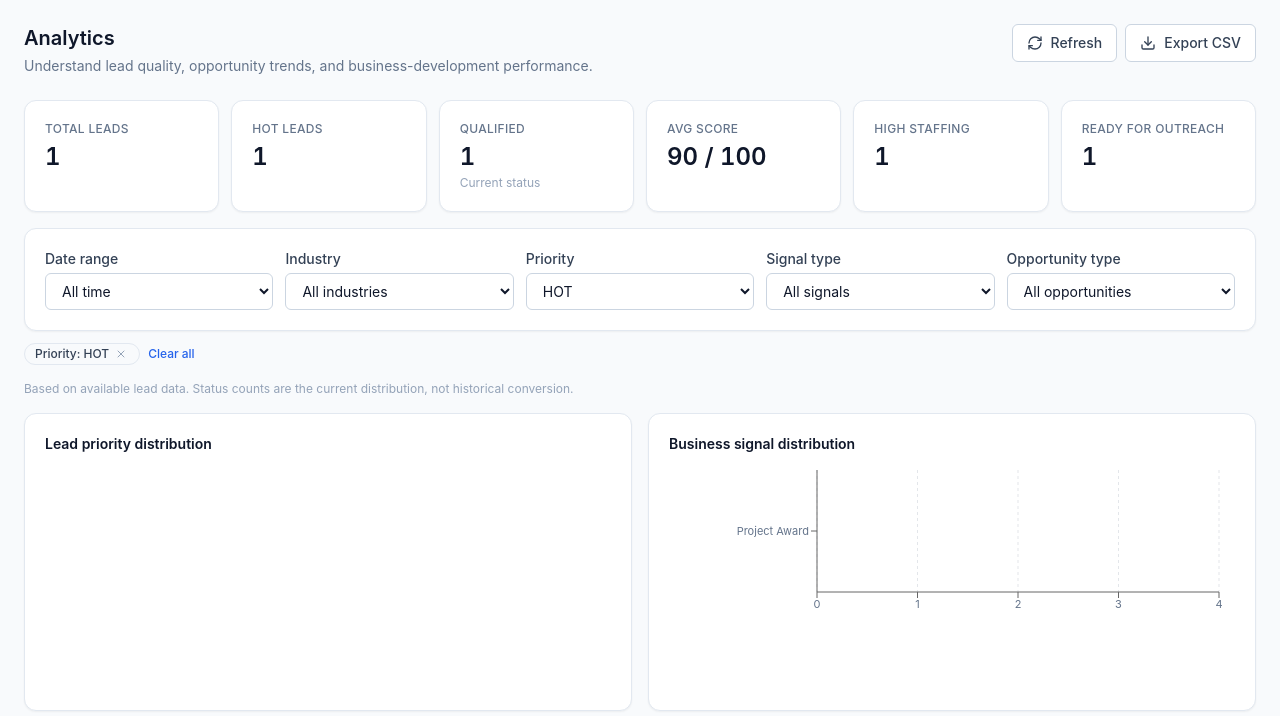
Scenario: AnalyticsPage › clears filters
Expected: the text "Total leads" is shown, x1=45 y1=121 x2=129 y2=136
Expected: the text "1" below "Total leads" is shown, x1=45 y1=142 x2=60 y2=171
Click the button "Clear all": (171,354) x1=148 y1=346 x2=195 y2=362
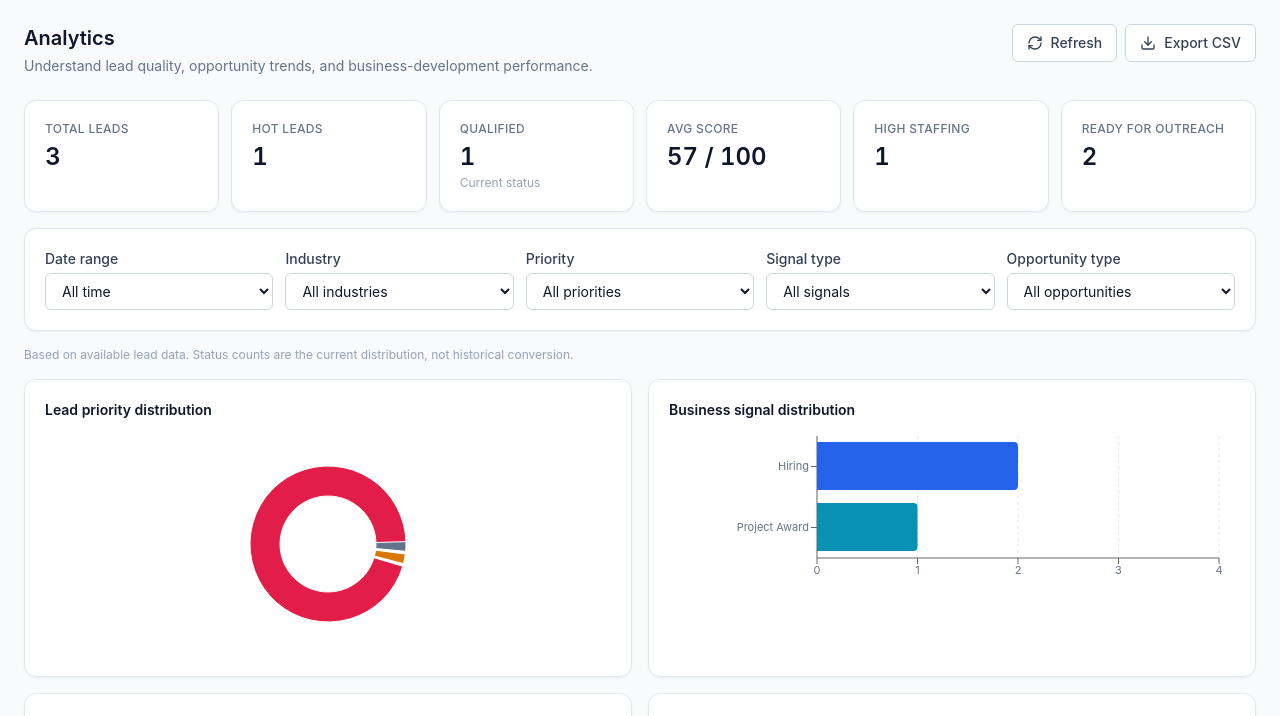
Result: the text "3" is shown at x1=45 y1=142 x2=60 y2=171
